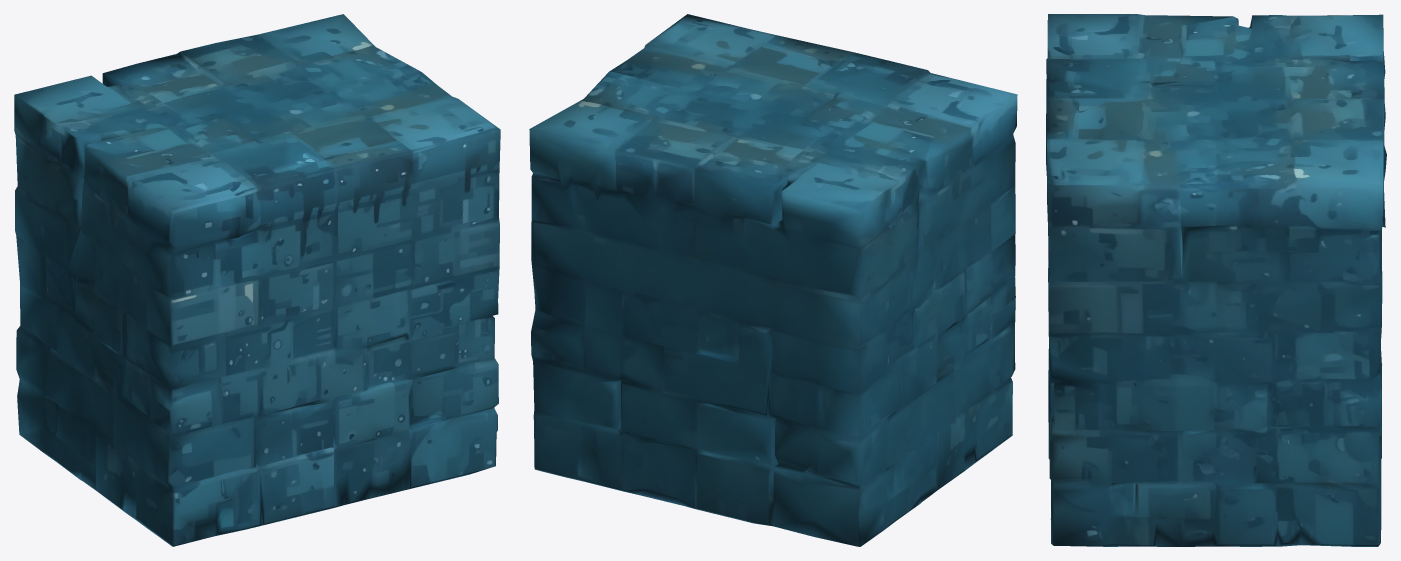
File: Wall_C1_Base.glb
3 views of the same model, side by side, from view 1: azimuth 30°, elevation 25°; view 2: azimuth 150°, elevation 25°; view 3: azimuth 270°, elevation 25° (orthographic). The views are drawn at different scales.
Visible parts, largest first — view 1: tripo_node_9f252195-719e-4f9d-918b-fe3d66995b25; view 2: tripo_node_9f252195-719e-4f9d-918b-fe3d66995b25; view 3: tripo_node_9f252195-719e-4f9d-918b-fe3d66995b25.
Part boxes in pixels (box(x1,y1,x2,y2)): tripo_node_9f252195-719e-4f9d-918b-fe3d66995b25: box(14, 14, 500, 546); tripo_node_9f252195-719e-4f9d-918b-fe3d66995b25: box(529, 14, 1017, 546); tripo_node_9f252195-719e-4f9d-918b-fe3d66995b25: box(1046, 14, 1386, 546).
Size of the model in its own units: 1 by 0.9913 by 0.8389.
1 material, 1 textured.
